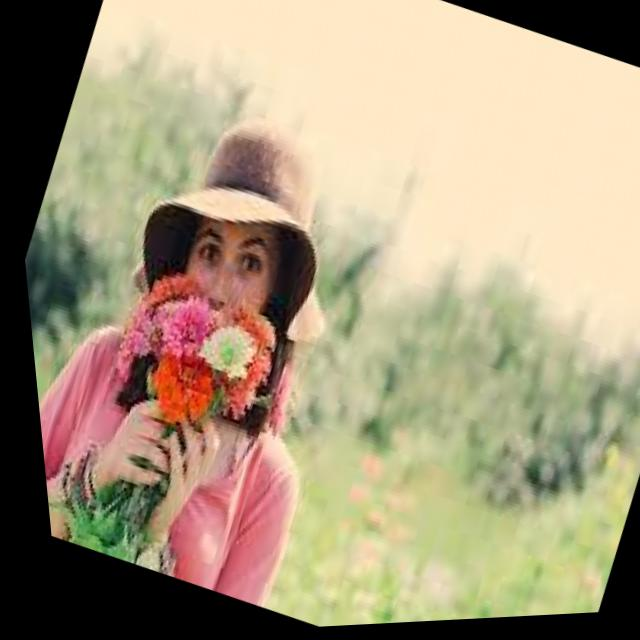Flower: (124, 343, 225, 434), (130, 285, 229, 367), (177, 302, 263, 394)
